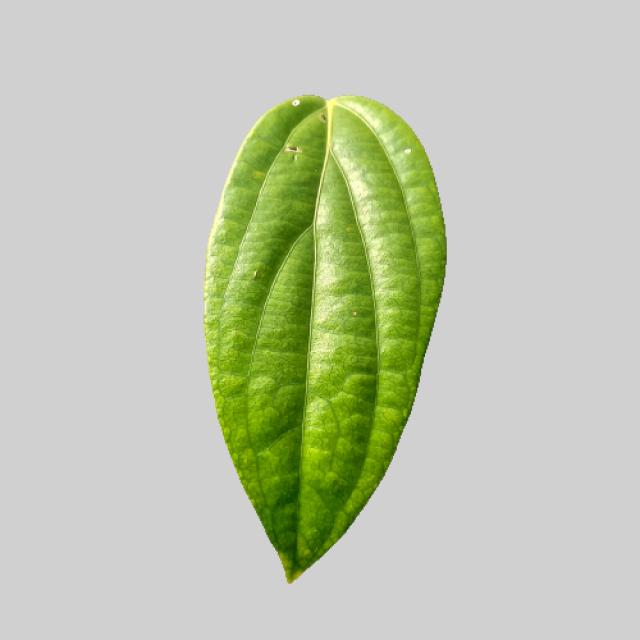healthy: (198, 87, 453, 596)
